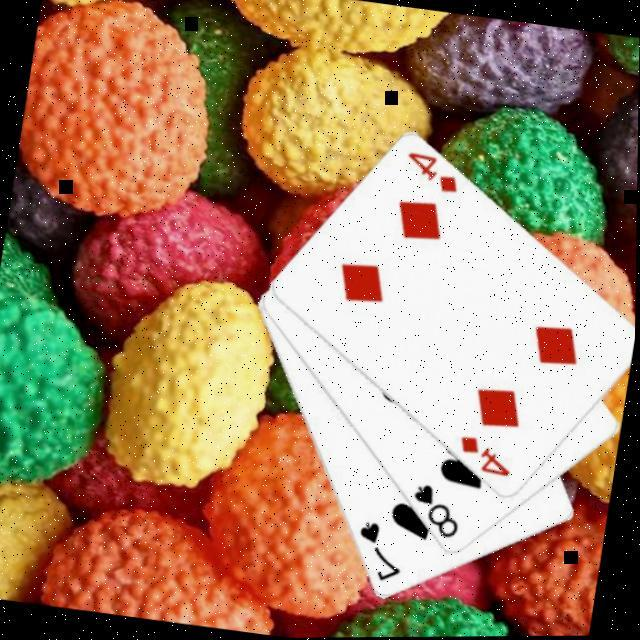4D: (401, 150, 469, 200), (455, 433, 521, 483)
7S: (353, 519, 415, 590)
8S: (407, 481, 471, 544)
